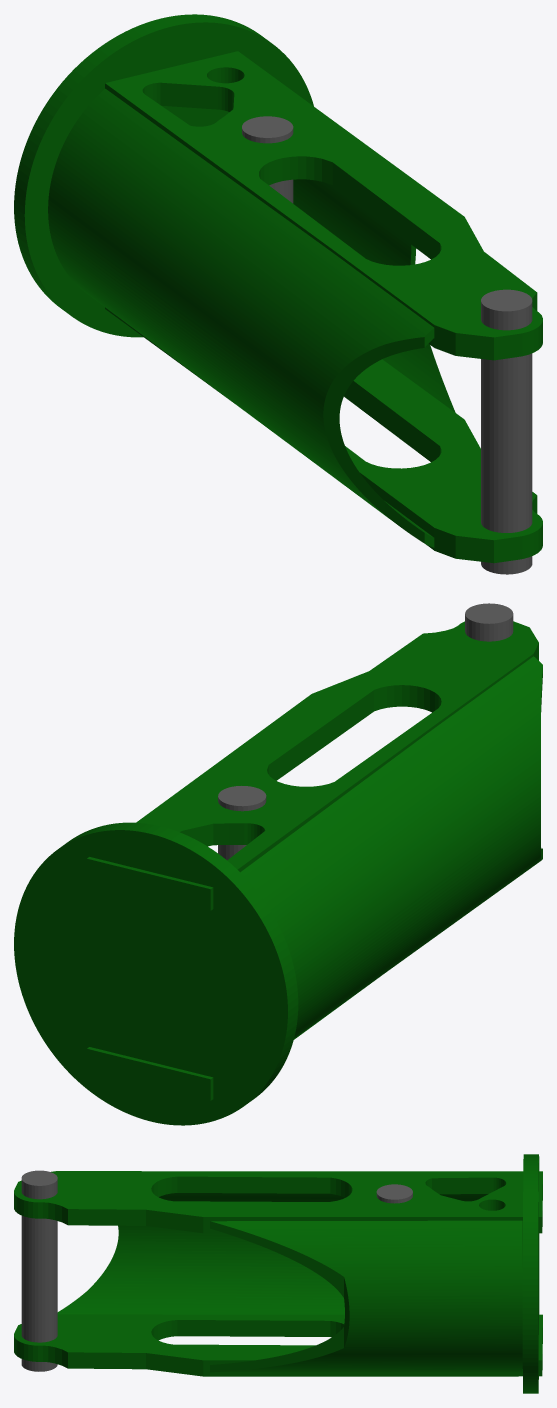
The model's file is Forearm.obj.
3 views of the same model, one above another, from view 1: azimuth 30°, elevation 25°; view 2: azimuth 150°, elevation 25°; view 3: azimuth 270°, elevation 25° (orthographic). The views are drawn at different scales.
Visible parts, largest first — view 1: part_005, part_001, part_003, part_002, part_000, part_004; view 2: part_003, part_005, part_001, part_002, part_004; view 3: part_001, part_000, part_005, part_002, part_003, part_004.
Part boxes in pixels (left/top/right/bottom): part_005: left=48, top=88, right=434, bottom=547; part_001: left=105, top=51, right=542, bottom=563; part_003: left=14, top=14, right=313, bottom=337; part_002: left=481, top=289, right=532, bottom=574; part_000: left=293, top=179, right=455, bottom=412; part_004: left=242, top=116, right=293, bottom=203; part_003: left=14, top=822, right=298, bottom=1125; part_005: left=240, top=656, right=542, bottom=1038; part_001: left=87, top=621, right=538, bottom=1100; part_002: left=465, top=603, right=513, bottom=641; part_004: left=218, top=786, right=266, bottom=860; part_001: left=14, top=1171, right=542, bottom=1376; part_000: left=210, top=1220, right=522, bottom=1372; part_005: left=57, top=1193, right=522, bottom=1314; part_002: left=21, top=1170, right=57, bottom=1371; part_003: left=522, top=1154, right=539, bottom=1393; part_004: left=376, top=1184, right=412, bottom=1203.
Bounding box in the file's own units: 0.1515 × 0.1515 × 0.3348.
